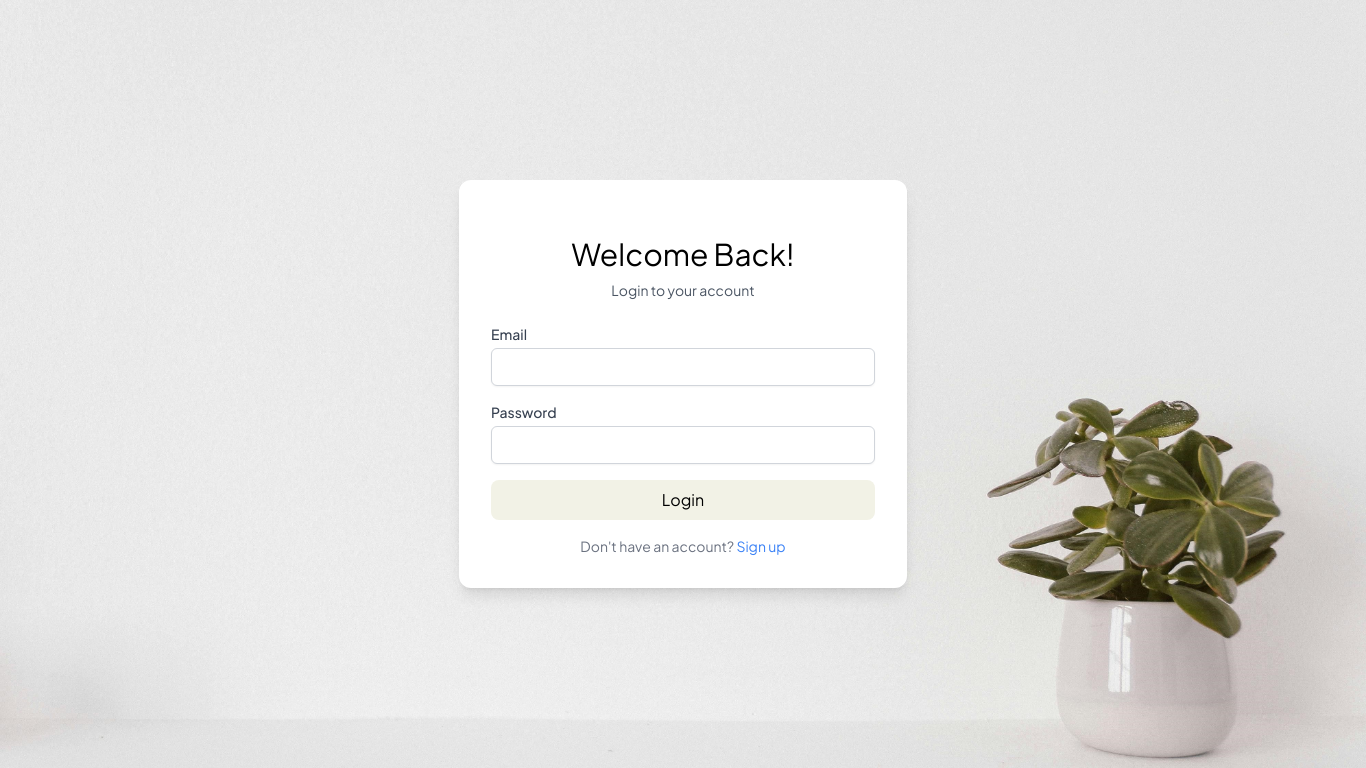
Test: Login Component › disables button and shows loading state during submission
Type "user@example.com" into the field labelled "Email" at (683, 367), box [491, 348, 875, 386]
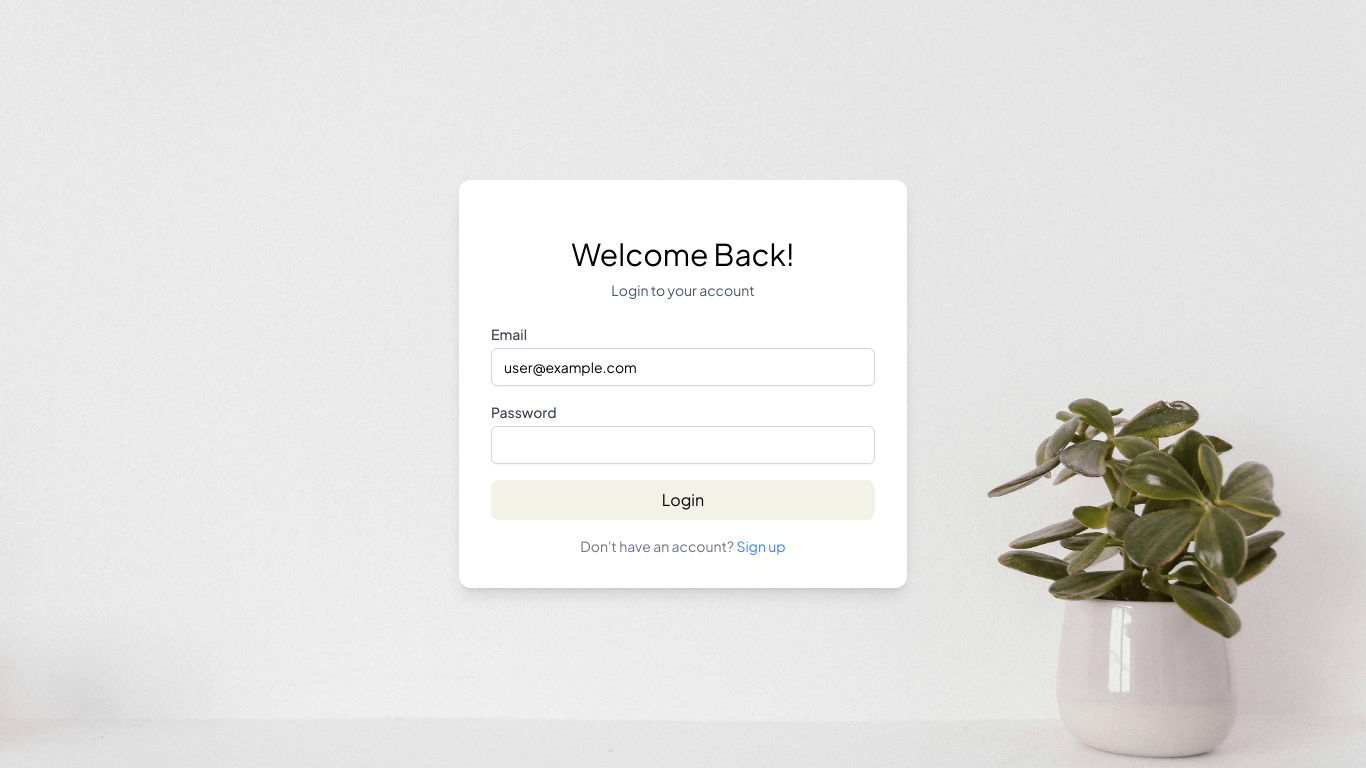
Type "password123" into the password field labelled "Password" at (683, 445), box [491, 426, 875, 464]
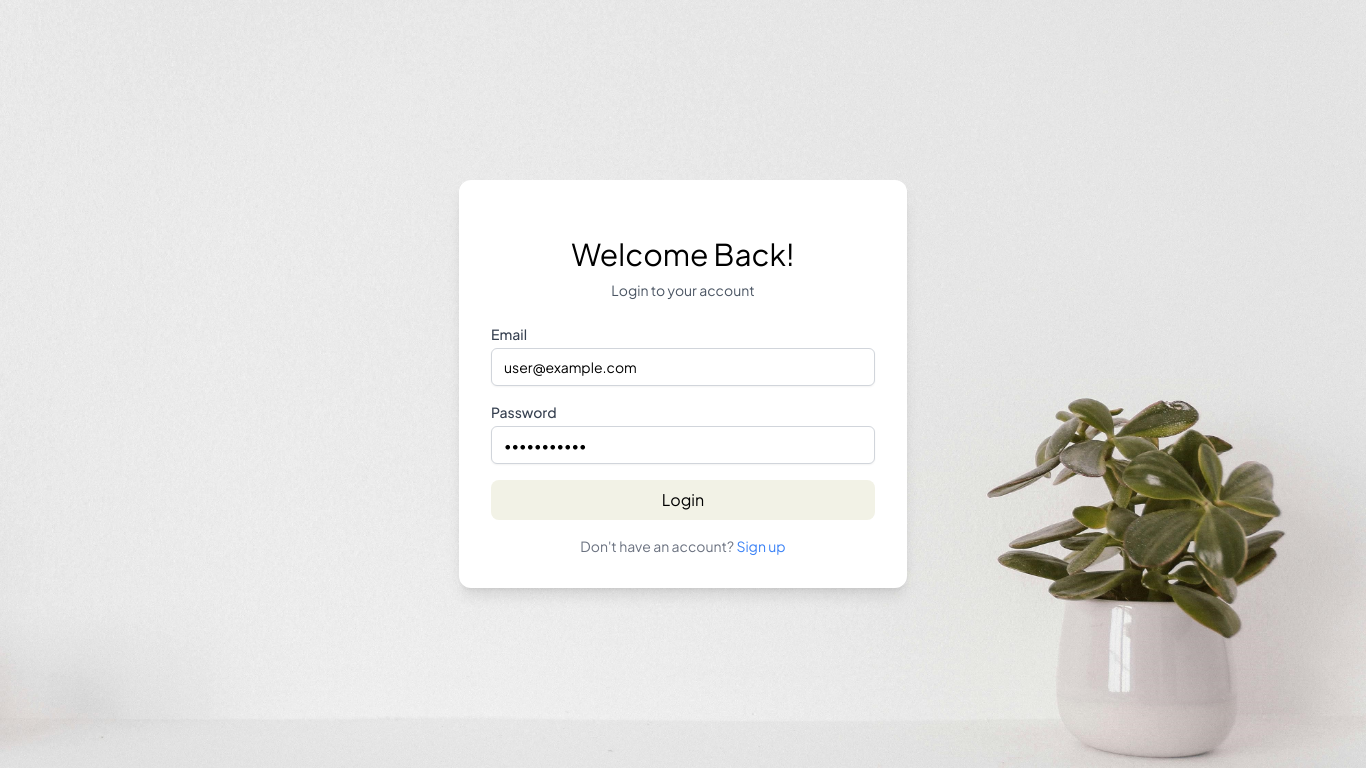
Click the button "Login" at (683, 500), box [491, 480, 875, 520]
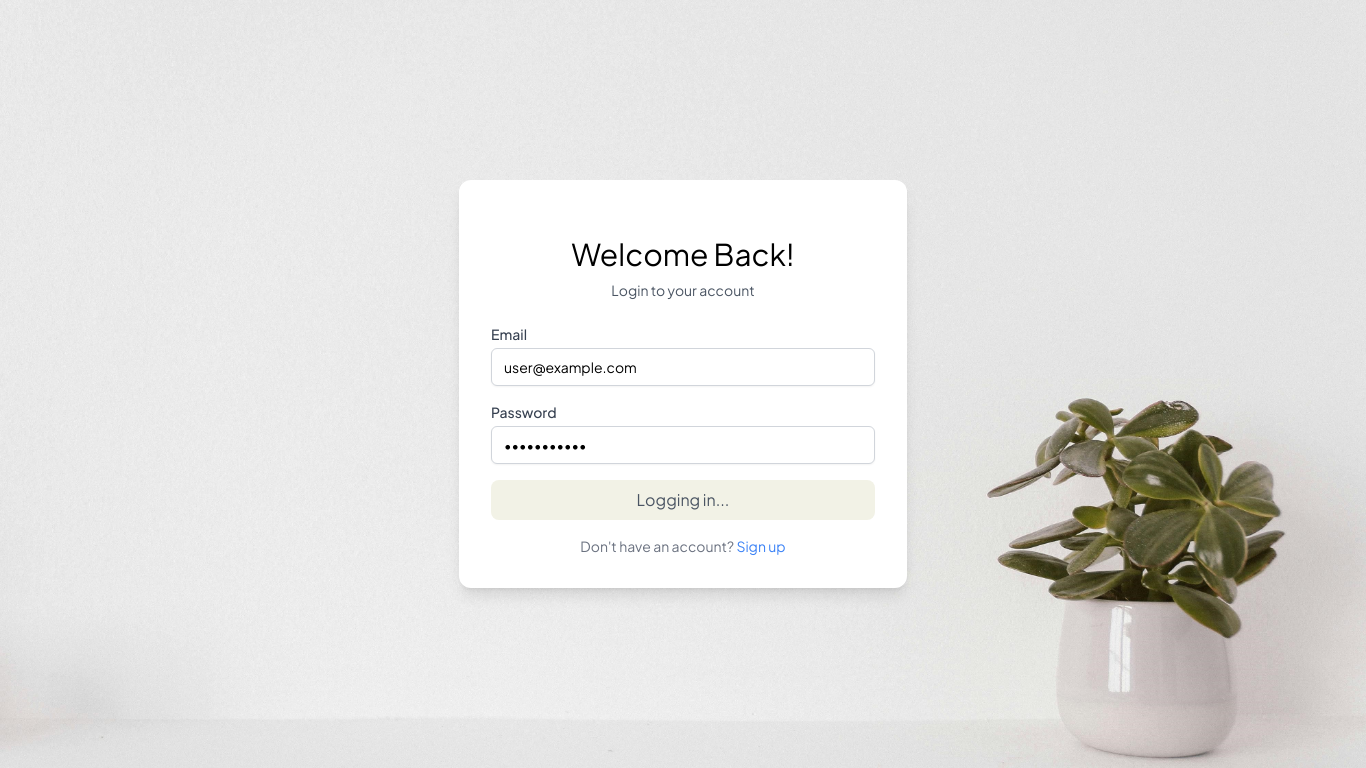
Expected: the button "Logging in..." is disabled, [491, 480, 875, 520]
